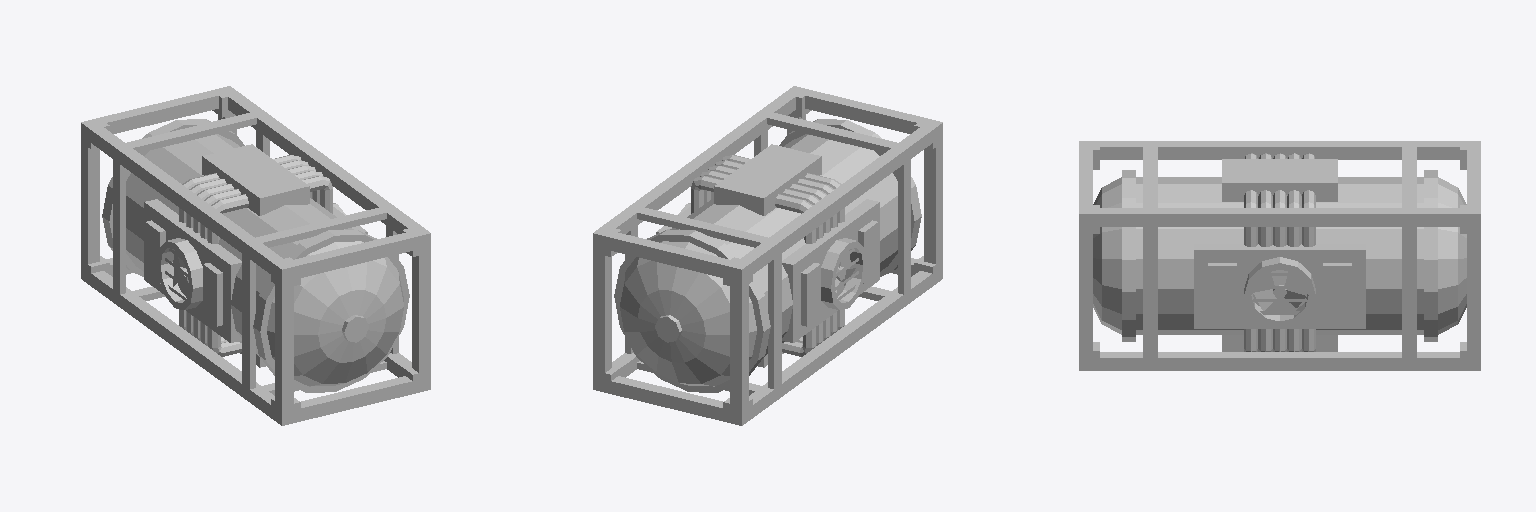
File: condenser.obj
3 views of the same model, side by side, from view 1: azimuth 30°, elevation 25°; view 2: azimuth 150°, elevation 25°; view 3: azimuth 270°, elevation 25° (orthographic).
Parts seen in each view (by area): view 1: Condenser; view 2: Condenser; view 3: Condenser, Fan2.
Boxes of the visible parts, <box> form: Condenser: <box>81,86,430,425</box>; Condenser: <box>593,86,942,425</box>; Condenser: <box>1079,141,1480,370</box>; Fan2: <box>1253,270,1305,310</box>.
Bounding box in the file's own units: 3.25 × 3.25 × 7.